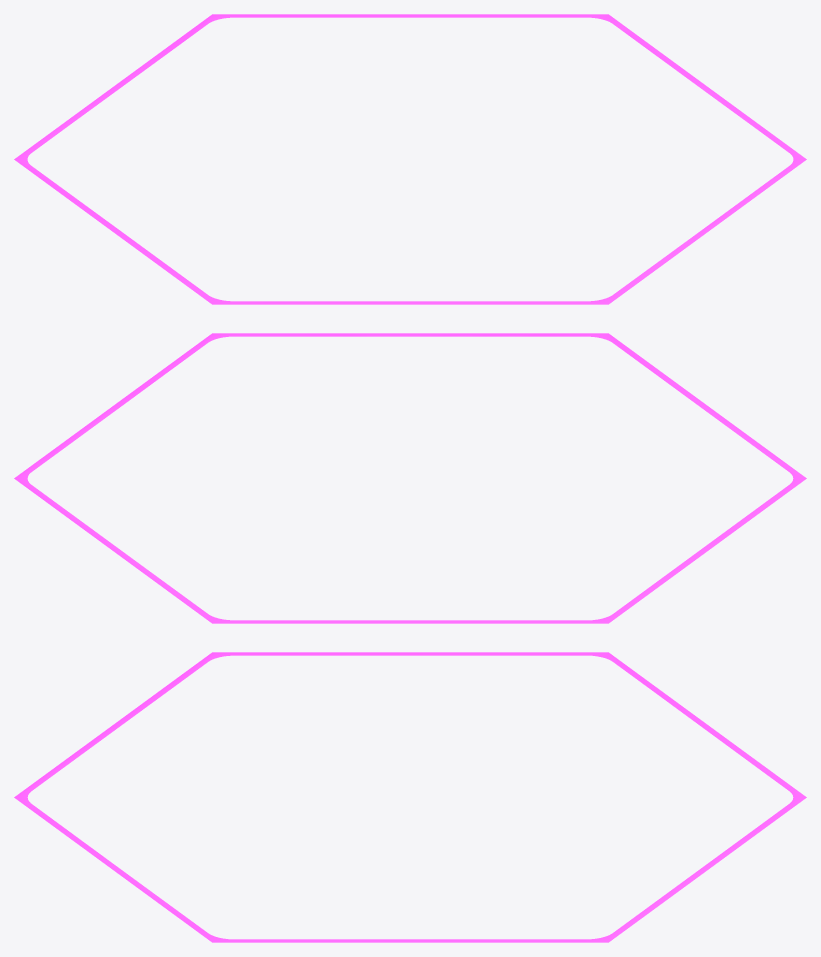
The model's file is outline_pink_small.glb.
3 views of the same model, one above another, from view 1: azimuth 30°, elevation 25°; view 2: azimuth 150°, elevation 25°; view 3: azimuth 270°, elevation 25° (orthographic).
Visible parts, largest first — view 1: Outline; view 2: Outline; view 3: Outline.
Part boxes in pixels (bbox=[...]): Outline: bbox=[14, 14, 806, 304]; Outline: bbox=[14, 333, 806, 623]; Outline: bbox=[14, 652, 806, 942].
Size of the model in its own units: 1.73 by 0 by 2.
